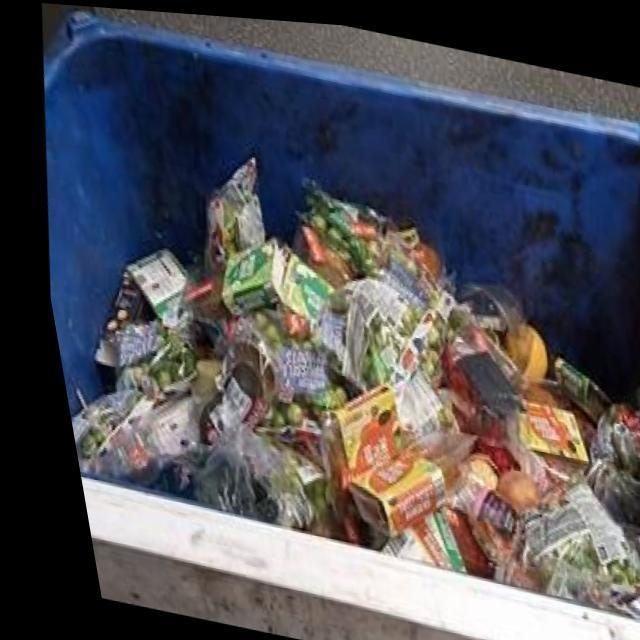Garbage: (57, 148, 640, 613)
Plastic_Bag: (503, 473, 624, 598), (57, 367, 185, 478), (177, 427, 296, 525), (571, 395, 640, 513), (330, 272, 401, 385), (382, 366, 428, 431), (264, 342, 316, 399)
